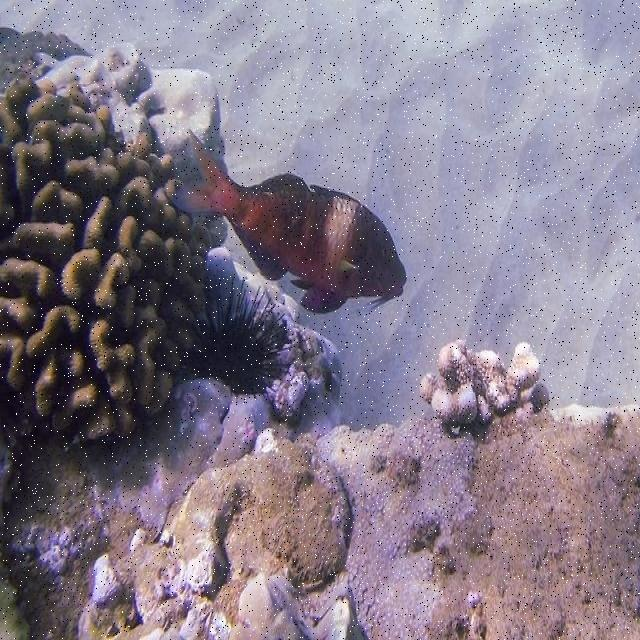fish: (173, 129, 407, 313)
reefs: (79, 402, 639, 638), (0, 74, 227, 446), (35, 42, 227, 183), (183, 275, 292, 395), (419, 340, 549, 438)
